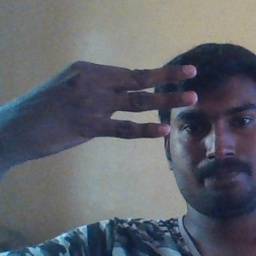K: (18, 57, 198, 148)
